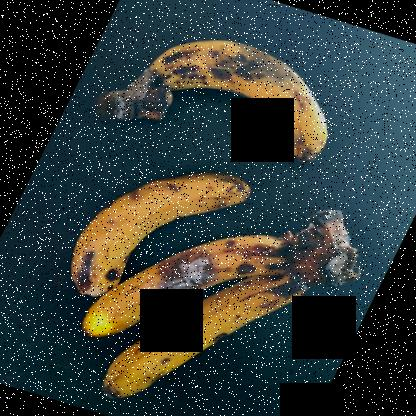ripe: (136, 29, 352, 172), (86, 284, 307, 416), (47, 160, 256, 285)
rotten: (53, 236, 289, 339)
